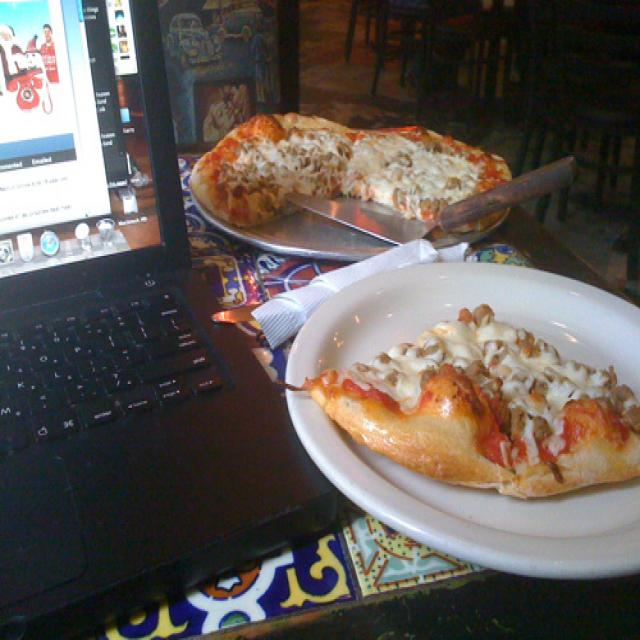chair: (342, 5, 614, 220), (413, 3, 486, 134)
dining table: (88, 502, 507, 640)
